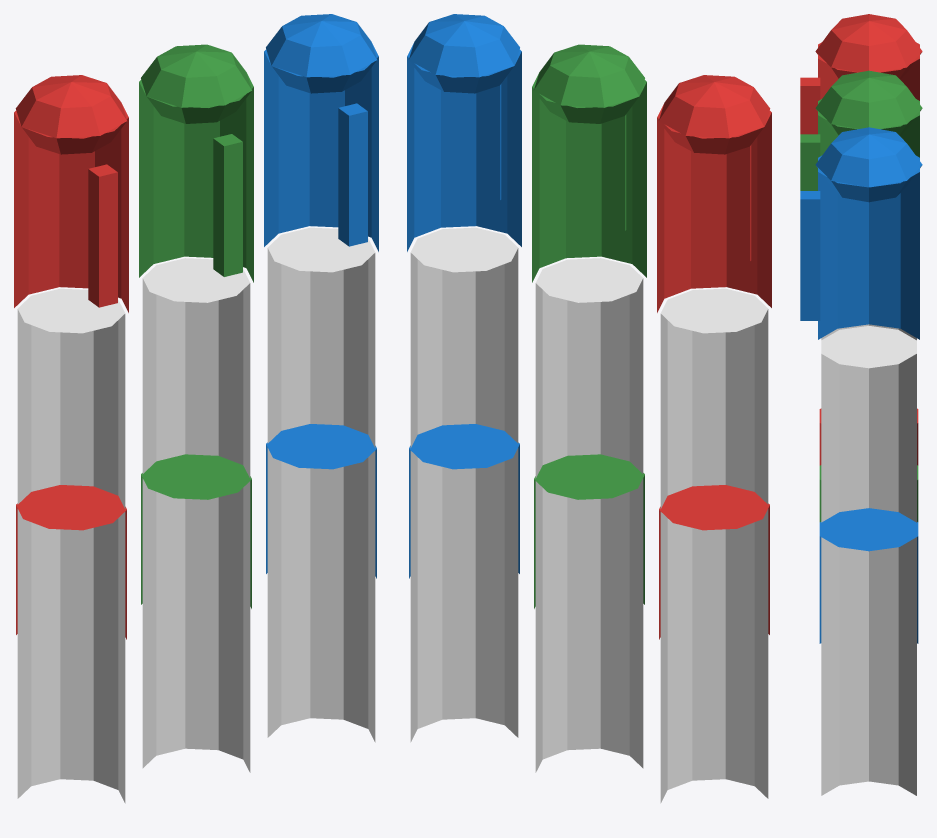
Rendered from tuschpenna.glb.
3 renders of one model, left to right at view 1: azimuth 30°, elevation 25°; view 2: azimuth 150°, elevation 25°; view 3: azimuth 270°, elevation 25°, orthographic. The views are drawn at different scales.
Parts seen in each view (by area): view 1: tuschpenna; view 2: tuschpenna; view 3: tuschpenna.
Boxes of the visible parts, x1,y1,x2,y2 form: tuschpenna: (14, 14, 378, 803); tuschpenna: (407, 14, 771, 803); tuschpenna: (800, 14, 922, 795).
Bounding box in the file's own units: 0.224 × 0.44 × 0.073.
